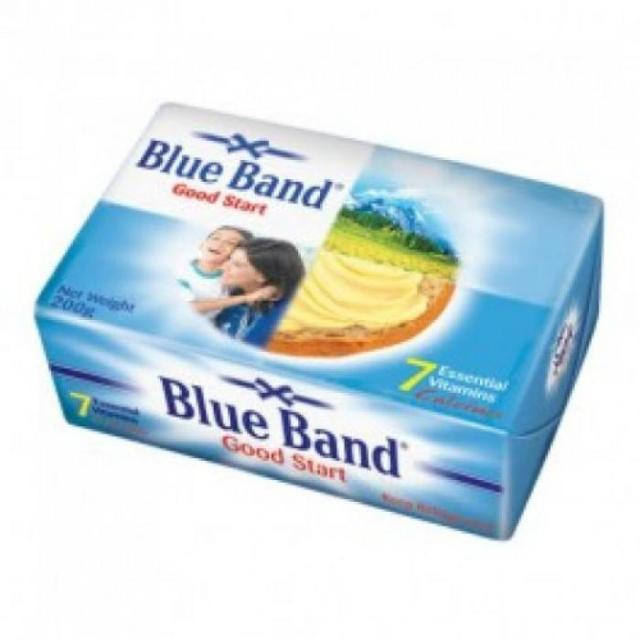butter: (33, 100, 605, 541)
